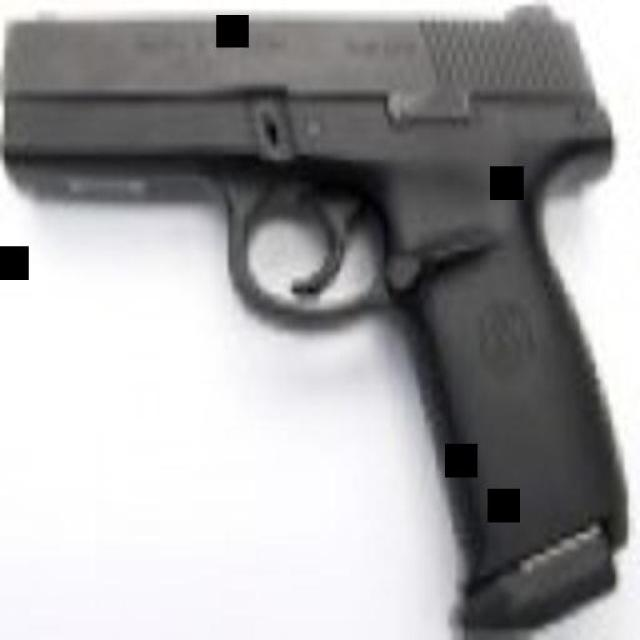gun: (2, 4, 626, 638)
